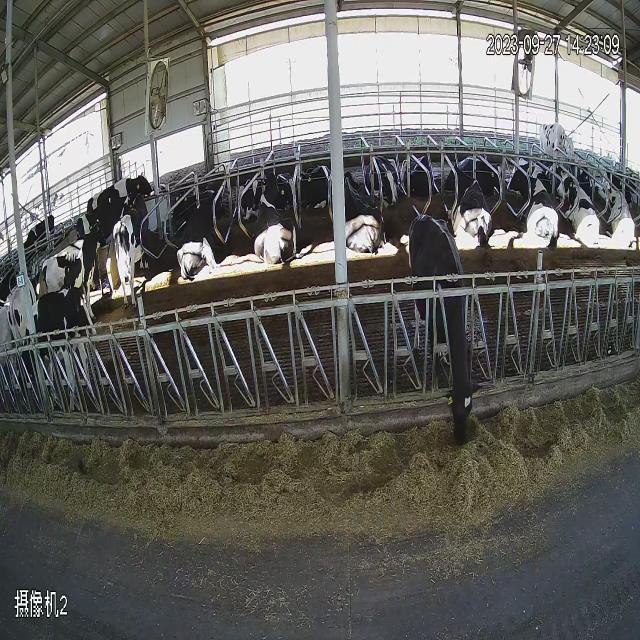drinking: (42, 157, 150, 294)
feeding: (402, 199, 486, 529)
lying down: (236, 161, 306, 293), (326, 149, 388, 283), (174, 173, 222, 316), (507, 150, 562, 274), (595, 170, 636, 276)
standing: (0, 266, 92, 411), (538, 104, 582, 176)
